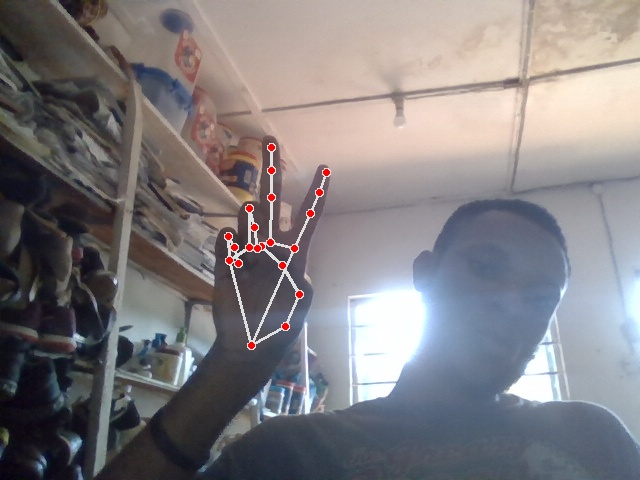peace: (213, 137, 331, 363)
